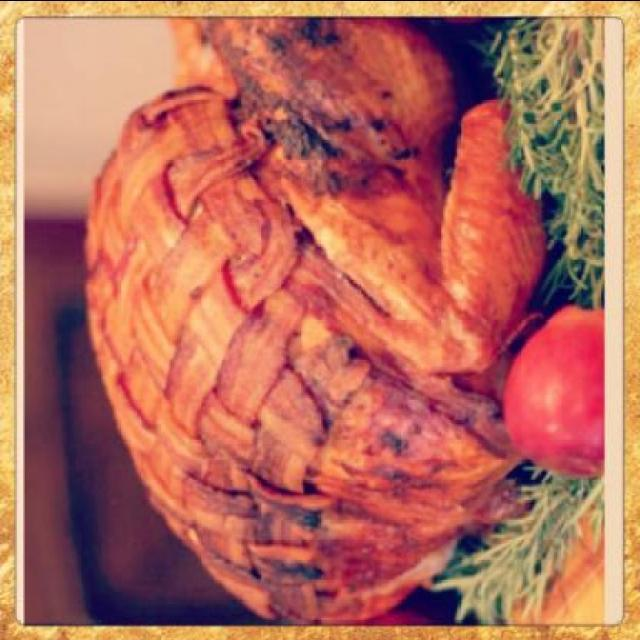Apple pie: (505, 302, 613, 490)
